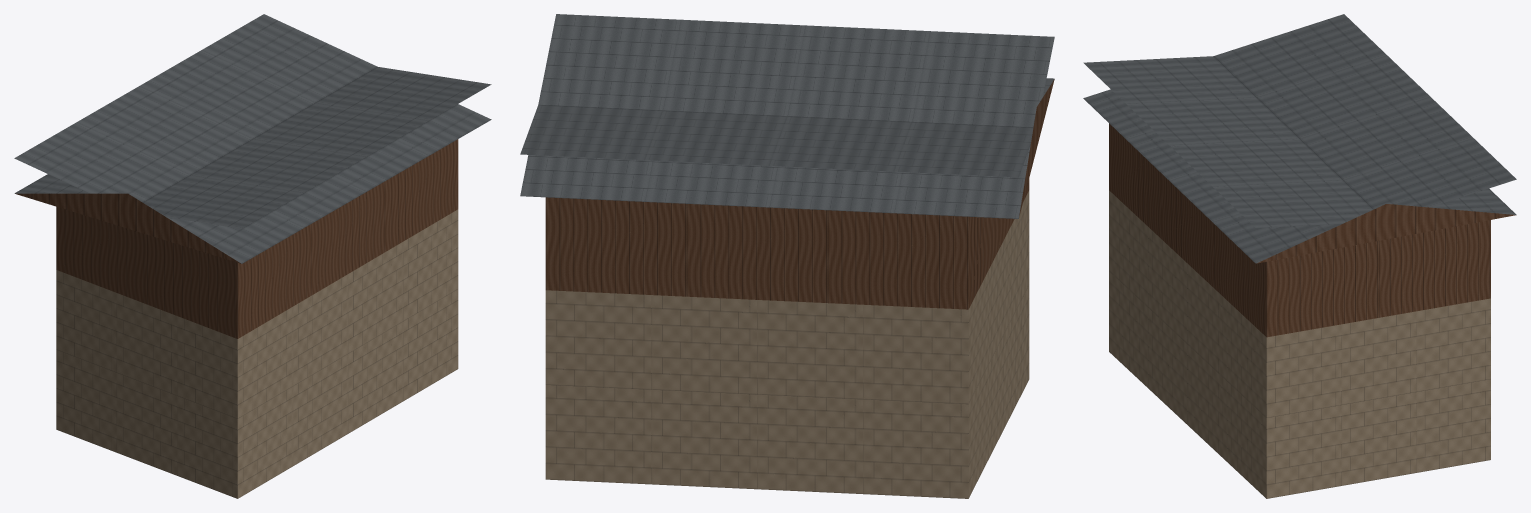
File: bld_c30_-43_465.gltf
3 renders of one model, left to right at view 1: azimuth 30°, elevation 25°; view 2: azimuth 150°, elevation 25°; view 3: azimuth 270°, elevation 25°, orthographic. The views are drawn at different scales.
Visible parts, largest first — view 1: bld_c30_-43_465; view 2: bld_c30_-43_465; view 3: bld_c30_-43_465.
Part boxes in pixels (bbox=[...]): bld_c30_-43_465: bbox=[14, 14, 491, 498]; bld_c30_-43_465: bbox=[520, 14, 1054, 498]; bld_c30_-43_465: bbox=[1083, 14, 1516, 498].
Size of the model in its own units: 12.9 by 8 by 11.05.
4 materials, 4 textured.
